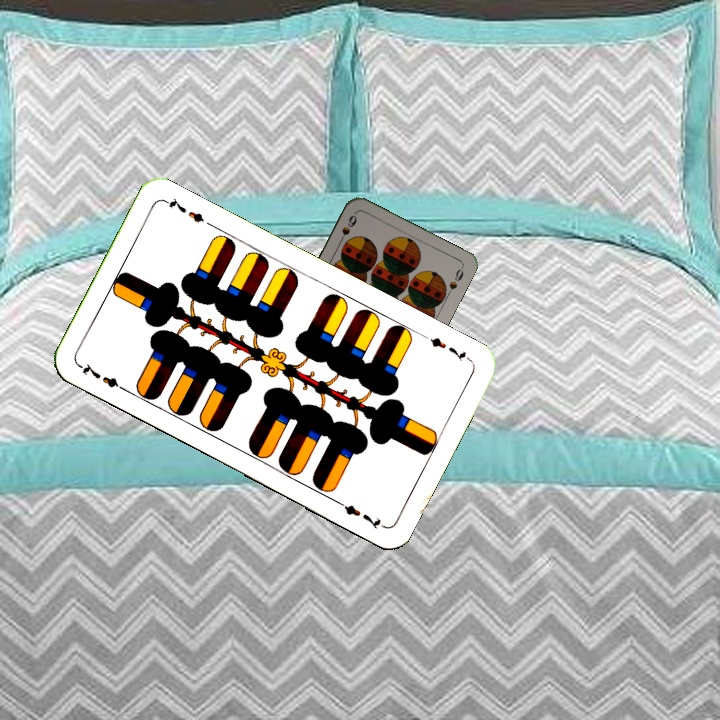E7: (75, 359, 130, 395), (425, 333, 473, 365)
S9: (334, 211, 360, 248)
